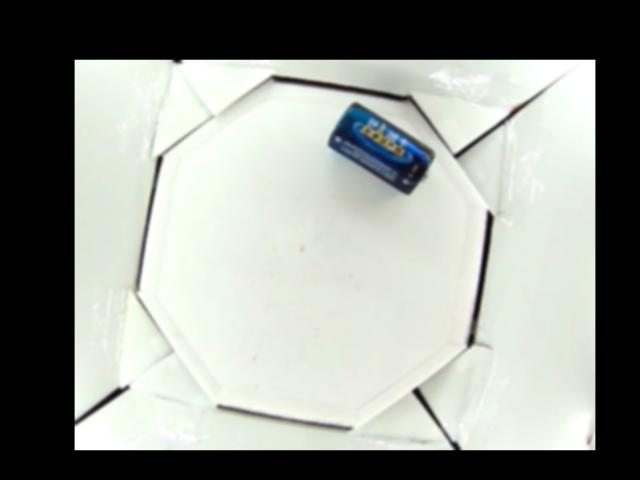Battery: (327, 99, 438, 196)
